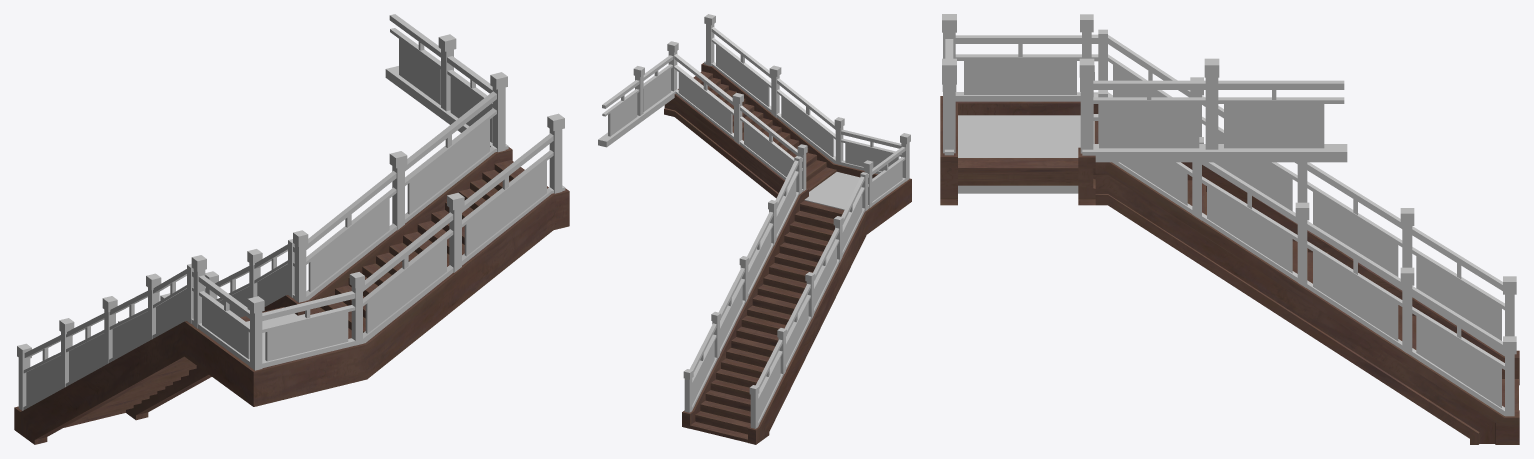
File: Homeworld_Interior_Ly_Room_P_Stair_01_Vo.fbx
The picture shows the model from 3 angles, left to right: view 1: azimuth 30°, elevation 25°; view 2: azimuth 150°, elevation 25°; view 3: azimuth 270°, elevation 25°; orthographic projection. The views are drawn at different scales.
Visible parts, largest first — view 1: Homeworld_Interior_Ly_Room_P_Stair_01_Vo; view 2: Homeworld_Interior_Ly_Room_P_Stair_01_Vo; view 3: Homeworld_Interior_Ly_Room_P_Stair_01_Vo.
Boxes of the visible parts, x1,y1,x2,y2 form: Homeworld_Interior_Ly_Room_P_Stair_01_Vo: [14, 14, 569, 444]; Homeworld_Interior_Ly_Room_P_Stair_01_Vo: [598, 14, 911, 444]; Homeworld_Interior_Ly_Room_P_Stair_01_Vo: [940, 14, 1519, 444].
Size of the model in its own units: 4.86 by 6.03 by 6.37.
